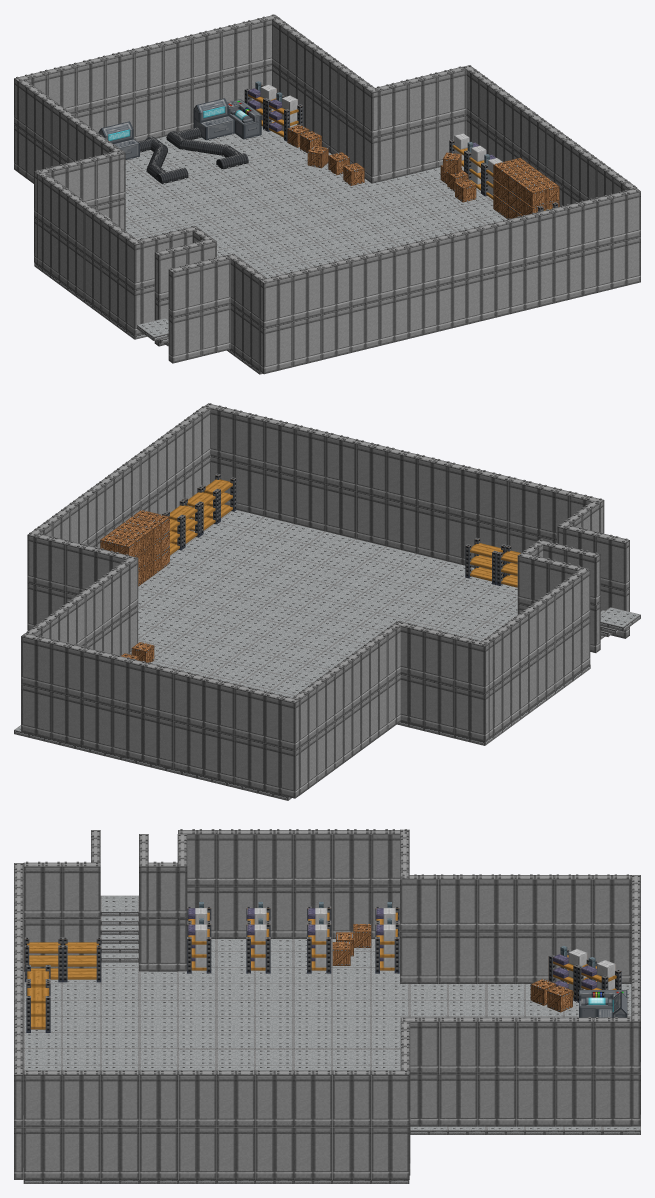
Rendered from Basement With replicator norig v2.fbx.
3 renders of one model, top to bottom at view 1: azimuth 30°, elevation 25°; view 2: azimuth 150°, elevation 25°; view 3: azimuth 270°, elevation 25°, orthographic. The views are drawn at different scales.
Visible parts, largest first — view 1: cube.253; view 2: cube.253; view 3: cube.253.
Part boxes in pixels (<box>): cube.253: <box>14,14,640,374</box>; cube.253: <box>14,403,640,800</box>; cube.253: <box>14,829,640,1183</box>.
Bounding box in the file's own units: 3104 × 632 × 3249.
